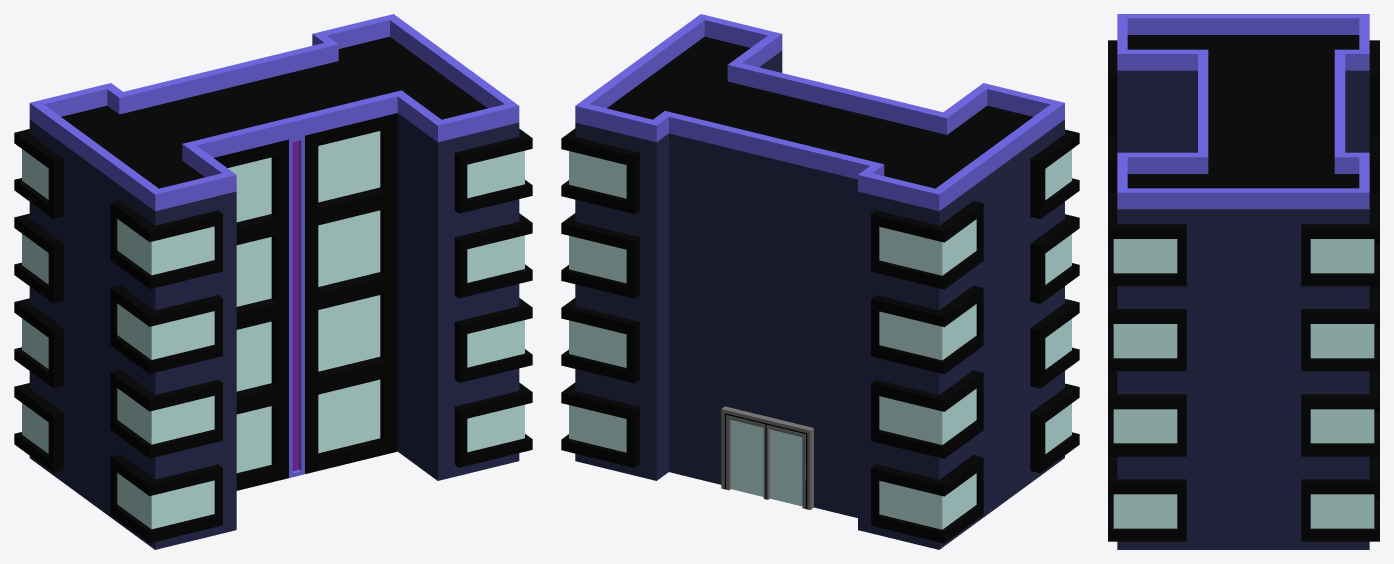
File: BlockOfFlats7.fbx
3 renders of one model, left to right at view 1: azimuth 30°, elevation 25°; view 2: azimuth 150°, elevation 25°; view 3: azimuth 270°, elevation 25°, orthographic.
Parts seen in each view (by area): view 1: BlockOfFlats4; view 2: BlockOfFlats4; view 3: BlockOfFlats4.
Part boxes in pixels (x1,y1,x2,y2): BlockOfFlats4: [14, 14, 532, 549]; BlockOfFlats4: [561, 14, 1079, 549]; BlockOfFlats4: [1108, 14, 1379, 549].
Bounding box in the file's own units: 7309 × 6479 × 4466.
